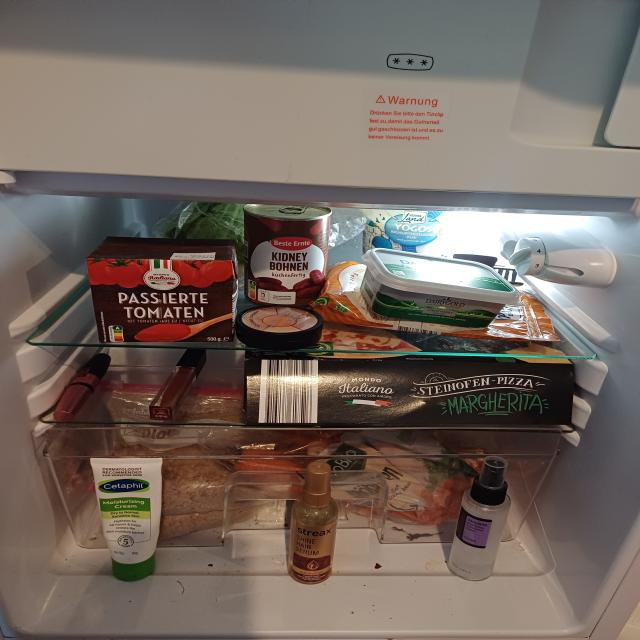Beans: (237, 201, 331, 309)
Butter: (358, 246, 514, 330)
Cheese: (323, 258, 554, 346)
Hair serum: (283, 461, 343, 588)
Lipstick: (146, 347, 213, 425)
Make up: (239, 301, 328, 347)
Masscara: (52, 350, 111, 424)
Moisturizer: (83, 454, 168, 586)
Pizza: (239, 352, 574, 432)
Plastic bag: (76, 434, 240, 537)
Tomato Puree: (83, 232, 241, 343)
Toner: (449, 454, 514, 584)
Yogurt: (357, 206, 459, 258)
cabbage: (172, 202, 262, 240)
carrots: (234, 433, 478, 523)
